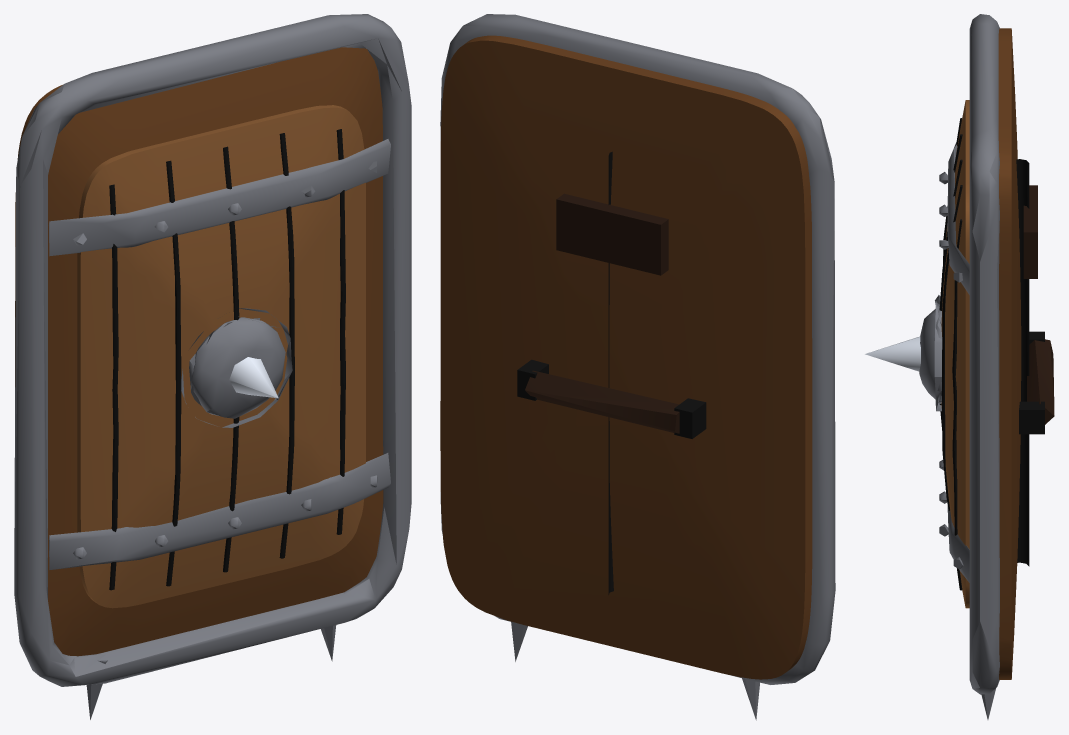
File: greatshield_0.glb
3 views of the same model, side by side, from view 1: azimuth 30°, elevation 25°; view 2: azimuth 150°, elevation 25°; view 3: azimuth 270°, elevation 25° (orthographic). The views are drawn at different scales.
Parts seen in each view (by area): view 1: greatshield_0; view 2: greatshield_0; view 3: greatshield_0.
Boxes of the visible parts, x1=… form: greatshield_0: x1=14, y1=14, x2=411, y2=719; greatshield_0: x1=440, y1=14, x2=835, y2=720; greatshield_0: x1=865, y1=14, x2=1054, y2=719.
Bounding box in the file's own units: 0.5227 × 0.8232 × 0.24.
